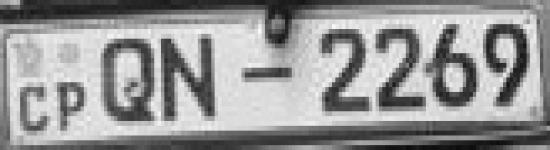-: (238, 60, 296, 86)
2: (314, 24, 374, 116), (373, 20, 428, 118)
6: (430, 18, 481, 113)
9: (483, 10, 535, 118)
C: (14, 76, 53, 140)
N: (155, 30, 223, 128)
P: (55, 70, 90, 138)
Q: (97, 34, 159, 130)
